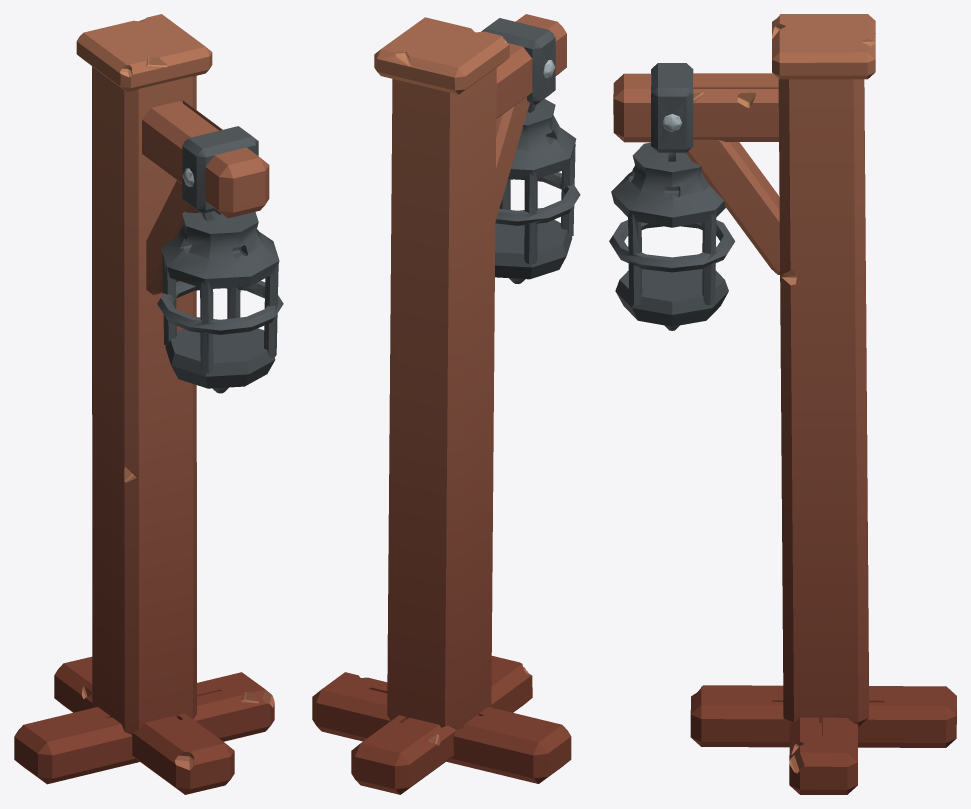
File: mine_lantern_post.glb
The picture shows the model from 3 angles, left to right: view 1: azimuth 30°, elevation 25°; view 2: azimuth 150°, elevation 25°; view 3: azimuth 270°, elevation 25°; orthographic projection.
Parts seen in each view (by area): view 1: mine_lantern_post; view 2: mine_lantern_post; view 3: mine_lantern_post.
Boxes of the visible parts, bbox=[...] form: mine_lantern_post: bbox=[14, 14, 283, 794]; mine_lantern_post: bbox=[312, 14, 580, 794]; mine_lantern_post: bbox=[609, 14, 956, 794].
Bounding box in the file's own units: 1.29 × 3.71 × 1.65.
Materials: 1 (1 with a texture image).
